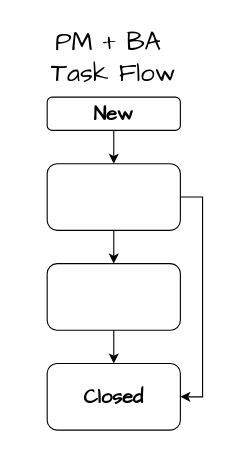
This 231x450 diagram has some shape labels left out. Each missing label, with the centre of its shape:
In progress: (x=113, y=196)
Need more information: (x=113, y=296)
